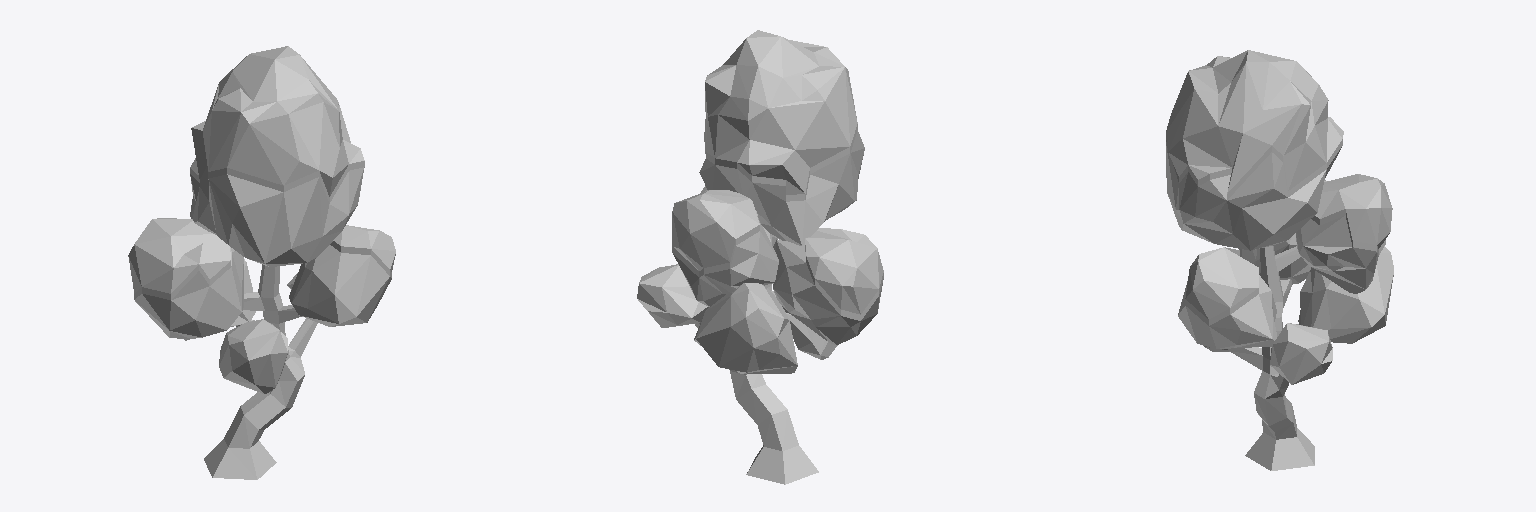
File: tree05snow.obj
3 views of the same model, side by side, from view 1: azimuth 30°, elevation 25°; view 2: azimuth 150°, elevation 25°; view 3: azimuth 270°, elevation 25° (orthographic).
Parts seen in each view (by area): view 1: SM_Env_Tree_Twisted_02_Snow_Mesh.009; view 2: SM_Env_Tree_Twisted_02_Snow_Mesh.009; view 3: SM_Env_Tree_Twisted_02_Snow_Mesh.009.
Part boxes in pixels (left/top/right/bottom): SM_Env_Tree_Twisted_02_Snow_Mesh.009: left=128, top=46, right=395, bottom=479; SM_Env_Tree_Twisted_02_Snow_Mesh.009: left=637, top=30, right=883, bottom=484; SM_Env_Tree_Twisted_02_Snow_Mesh.009: left=1166, top=50, right=1393, bottom=470.
Size of the model in its own units: 3.47 by 6.11 by 3.05.